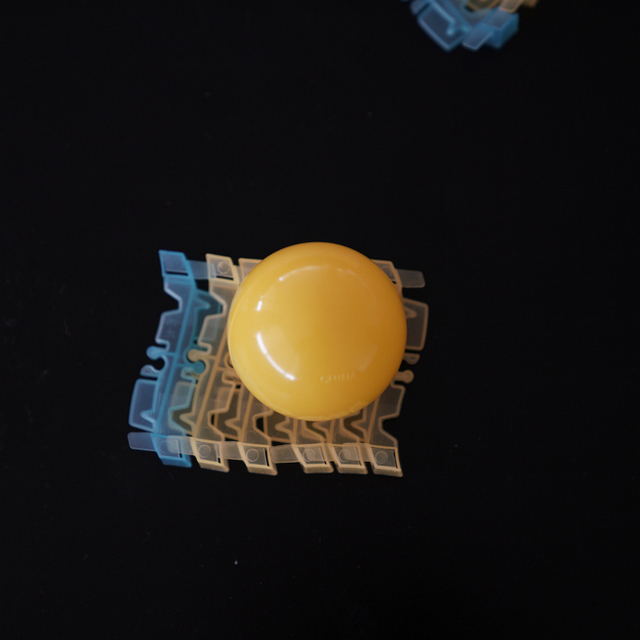Ball: (225, 242, 405, 424)
